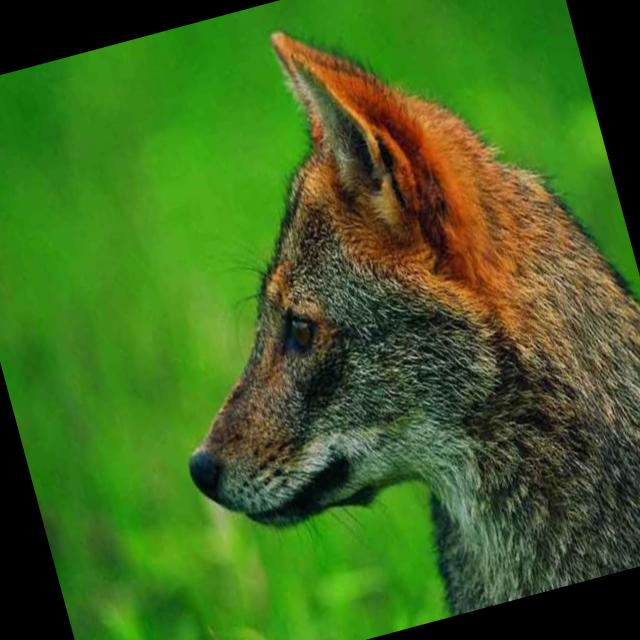fox: (71, 0, 640, 640)
